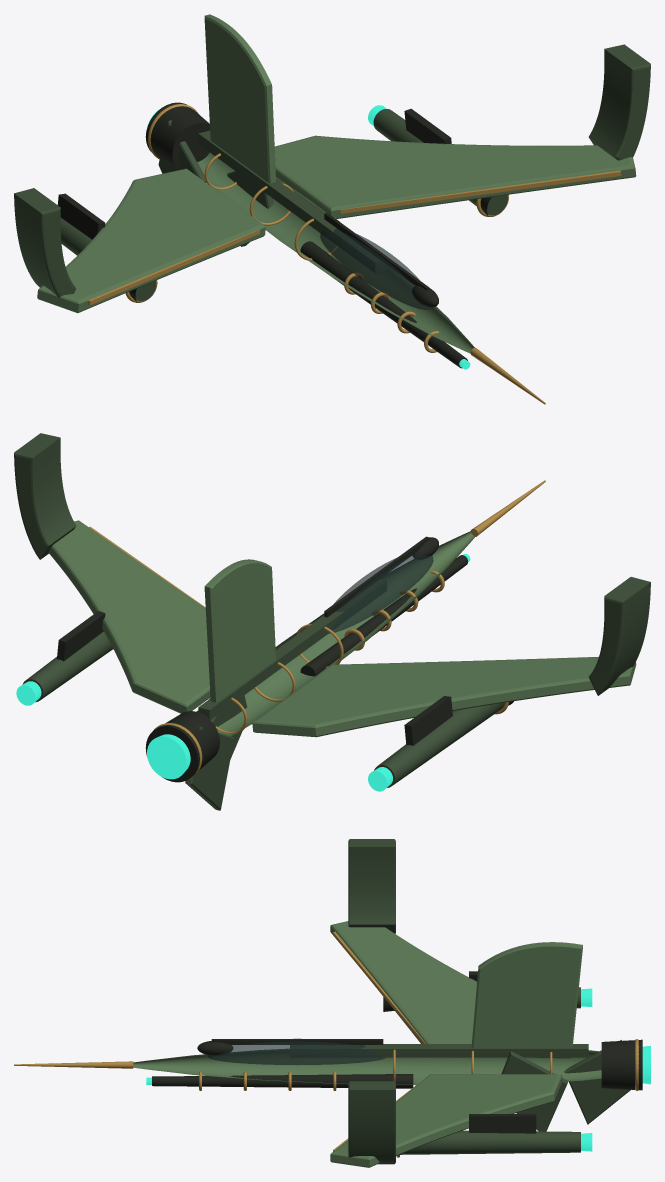
File: warbird-light-lod0.glb
3 views of the same model, one above another, from view 1: azimuth 30°, elevation 25°; view 2: azimuth 150°, elevation 25°; view 3: azimuth 270°, elevation 25° (orthographic). The views are drawn at different scales.
Visible parts, largest first — view 1: wing_panel (×2), wing_blade (×2), tailfin, fuselage, canopy, dorsal_spine, wing_strake (×2), engine_housing, lance_barrel, nacelle_shell (×2), nacelle_pylon (×2), canopy_frame (+2 smaller); view 2: wing_panel (×2), wing_blade (×2), tailfin, fuselage, nacelle_shell (×2), canopy, dorsal_spine, nacelle_pylon (×2), engine_housing, lance_barrel, ventral_fin_port, main_thruster (+2 smaller); view 3: wing_panel (×2), tailfin, wing_blade (×2), fuselage, dorsal_spine, nacelle_shell, canopy, lance_barrel, engine_housing, ventral_fin_port, ventral_fin_starboard, nacelle_pylon (+3 smaller).
Boxes of the visible parts, box(x1,y1,x2,y2) form: wing_panel (×2): box(37, 135, 636, 313); wing_blade (×2): box(14, 44, 650, 297); tailfin: box(204, 14, 275, 183); fuselage: box(197, 152, 474, 353); canopy: box(320, 228, 432, 309); dorsal_spine: box(198, 130, 386, 273); wing_strake (×2): box(87, 170, 621, 305); engine_housing: box(145, 102, 210, 169); lance_barrel: box(300, 241, 467, 368); nacelle_shell (×2): box(60, 109, 507, 301); nacelle_pylon (×2): box(57, 108, 451, 239); canopy_frame: box(324, 213, 429, 290); wing_panel (×2): box(48, 520, 636, 737); wing_blade (×2): box(14, 433, 650, 695); tailfin: box(204, 559, 275, 702); fuselage: box(196, 531, 476, 736); nacelle_shell (×2): box(22, 631, 504, 787); canopy: box(329, 553, 433, 633); dorsal_spine: box(198, 579, 386, 719); nacelle_pylon (×2): box(57, 611, 452, 745); engine_housing: box(145, 711, 219, 782); lance_barrel: box(300, 555, 468, 676); ventral_fin_port: box(185, 726, 233, 810); main_thruster: box(147, 734, 190, 779); wing_panel (×2): box(330, 921, 562, 1167); tailfin: box(471, 942, 582, 1058); wing_blade (×2): box(348, 839, 395, 1164); fuselage: box(133, 1049, 601, 1085); dorsal_spine: box(290, 1044, 588, 1057); nacelle_shell: box(400, 1130, 580, 1154); canopy: box(208, 1038, 385, 1065); lance_barrel: box(152, 1074, 413, 1088); engine_housing: box(601, 1039, 642, 1090); ventral_fin_port: box(564, 1040, 630, 1124); ventral_fin_starboard: box(501, 1051, 567, 1131); nacelle_pylon: box(469, 1114, 536, 1133).
Bounding box in the file's own units: 15.91 × 5.51 × 17.08.
